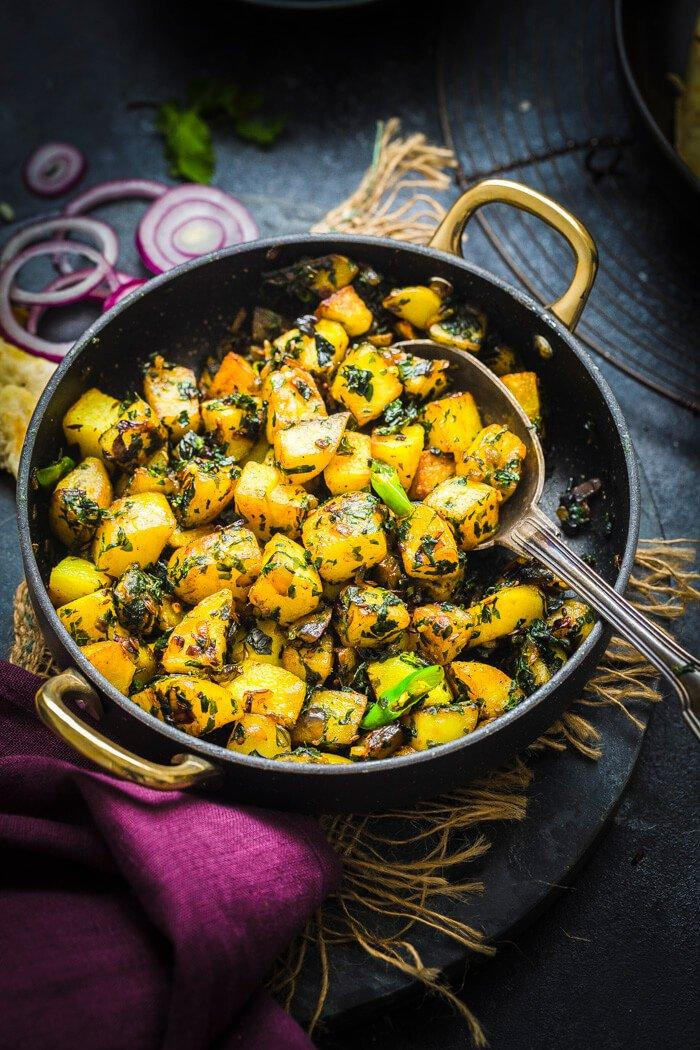Aloo Methi: (35, 228, 678, 798)
